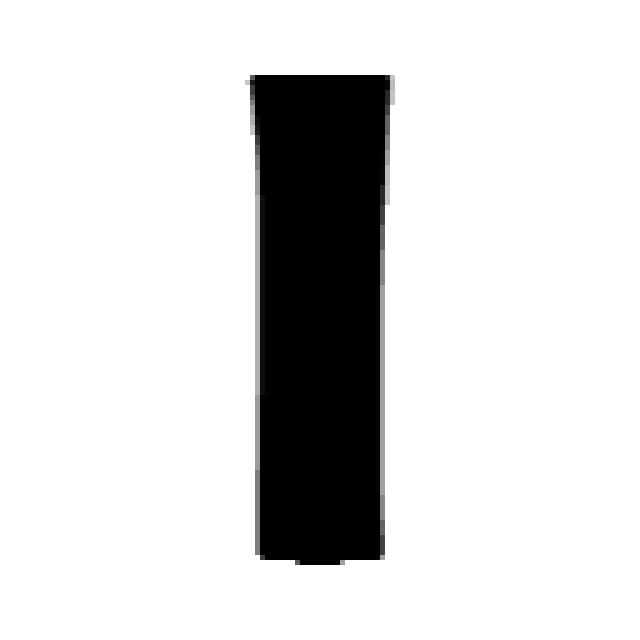L: (230, 61, 392, 565)
